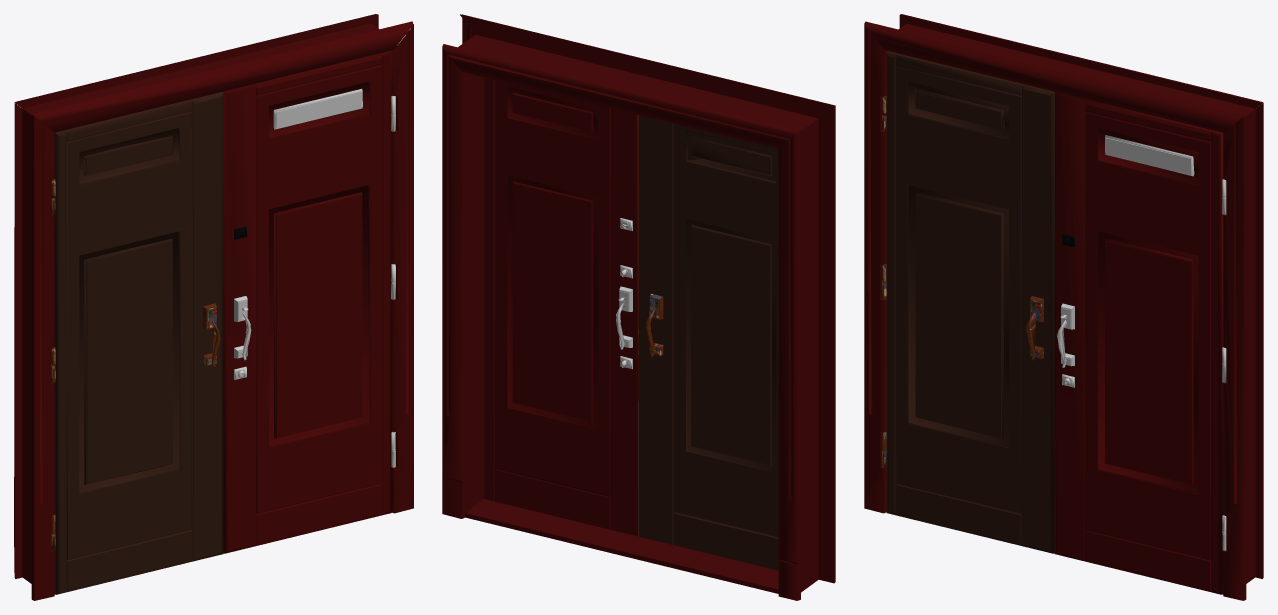
File: entrance door optimized.fbx
3 renders of one model, left to right at view 1: azimuth 30°, elevation 25°; view 2: azimuth 150°, elevation 25°; view 3: azimuth 330°, elevation 25°, orthographic.
Visible parts, largest first — view 1: Entrance_Door_002, Entrance_Door_003, Entrance_Door_004; view 2: Entrance_Door_004, Entrance_Door_003, Entrance_Door_002; view 3: Entrance_Door_003, Entrance_Door_002, Entrance_Door_004.
Part boxes in pixels (x1,y1,x2,y2): Entrance_Door_002: (51, 92, 223, 594); Entrance_Door_003: (223, 50, 395, 553); Entrance_Door_004: (14, 14, 413, 600); Entrance_Door_004: (442, 14, 835, 600); Entrance_Door_003: (484, 77, 638, 536); Entrance_Door_002: (638, 115, 778, 570); Entrance_Door_003: (1054, 92, 1226, 594); Entrance_Door_002: (882, 51, 1054, 553); Entrance_Door_004: (864, 14, 1263, 600).
Bounding box in the file's own units: 17.48 × 21.29 × 3.29.
